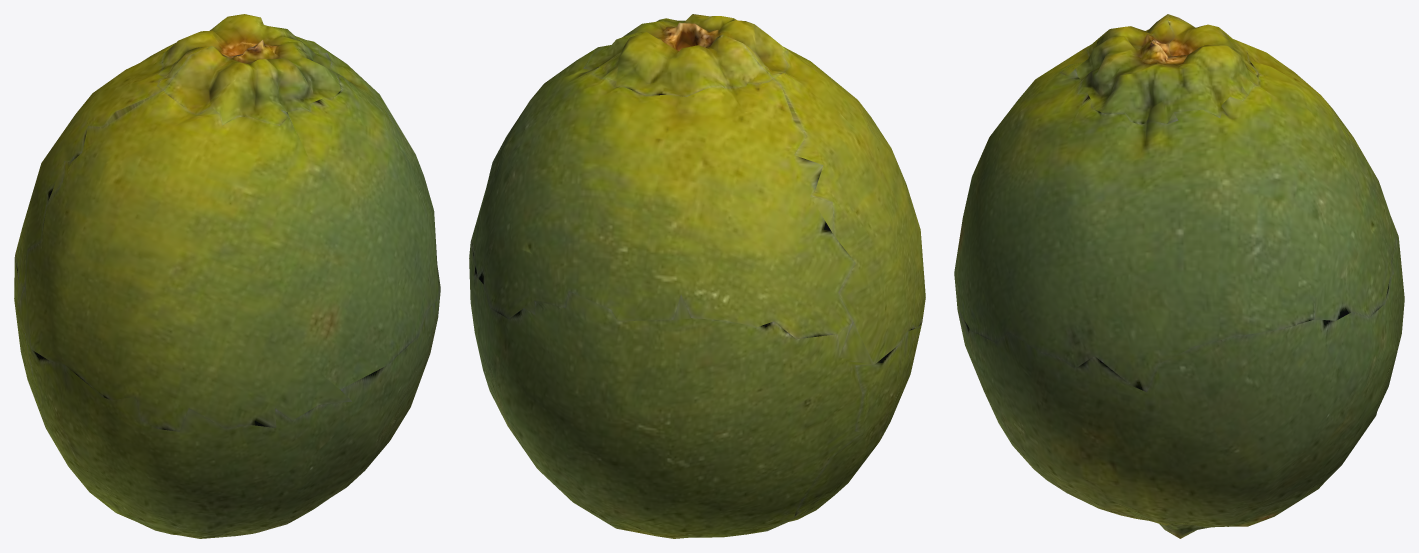
Rendered from food_lime_01.lod1.glb.
3 renders of one model, left to right at view 1: azimuth 30°, elevation 25°; view 2: azimuth 150°, elevation 25°; view 3: azimuth 270°, elevation 25°, orthographic.
Parts seen in each view (by area): view 1: food_lime_01; view 2: food_lime_01; view 3: food_lime_01.
Boxes of the visible parts, x1,y1,x2,y2 form: food_lime_01: [14, 14, 440, 538]; food_lime_01: [469, 14, 925, 538]; food_lime_01: [954, 14, 1404, 538].
Bounding box in the file's own units: 0.0599 × 0.0754 × 0.0613.
Materials: 1 (1 with a texture image).
